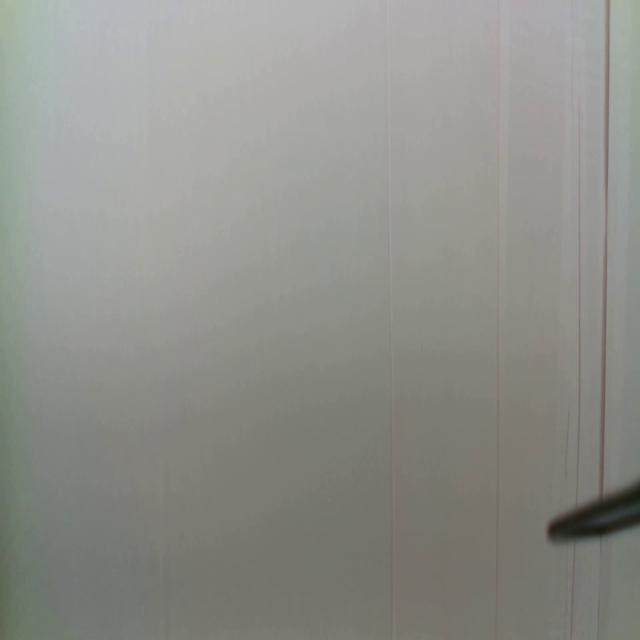crease: (493, 0, 511, 640), (384, 0, 396, 640), (599, 0, 611, 494), (575, 95, 583, 504), (566, 543, 578, 640), (594, 538, 604, 640), (562, 401, 572, 488), (569, 0, 574, 118)
